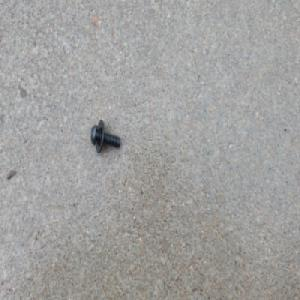BoltWasher: (90, 119, 121, 154)
